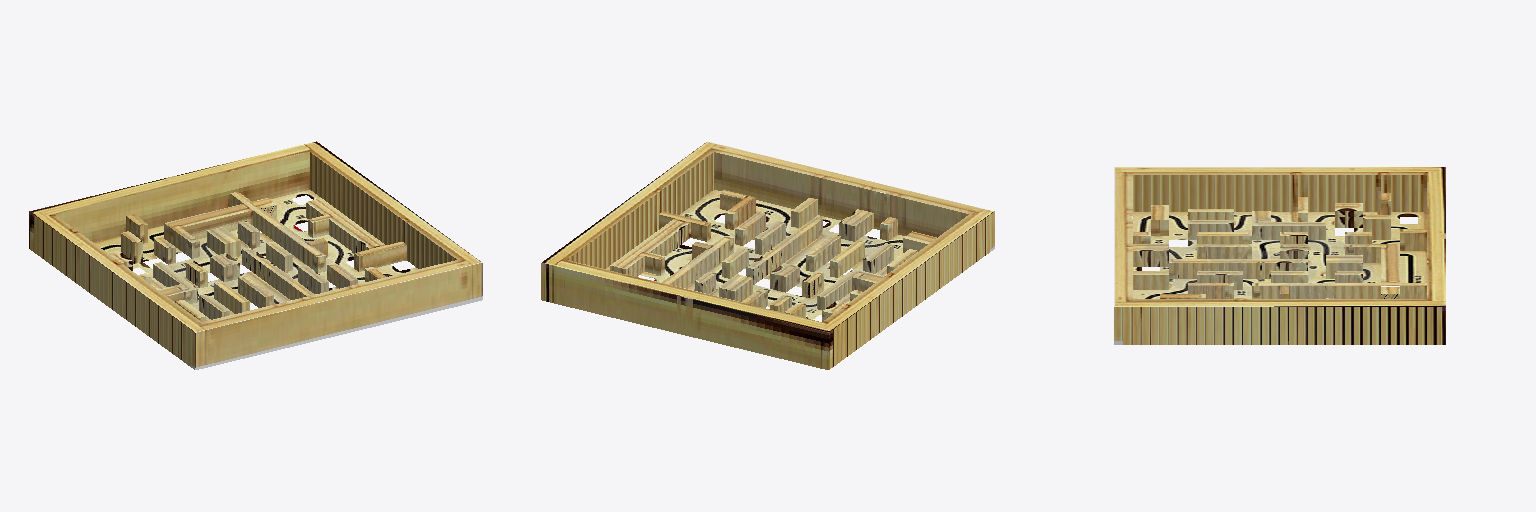
The picture shows the model from 3 angles: view 1: azimuth 30°, elevation 25°; view 2: azimuth 150°, elevation 25°; view 3: azimuth 270°, elevation 25°; orthographic projection.
Parts seen in each view (by area): view 1: Mesh_Mesh_Mesh_Mesh_Mesh_Mesh_Grid.001; view 2: Mesh_Mesh_Mesh_Mesh_Mesh_Mesh_Grid.001; view 3: Mesh_Mesh_Mesh_Mesh_Mesh_Mesh_Grid.001.
Part boxes in pixels (bbox=[...]): Mesh_Mesh_Mesh_Mesh_Mesh_Mesh_Grid.001: bbox=[29, 141, 482, 369]; Mesh_Mesh_Mesh_Mesh_Mesh_Mesh_Grid.001: bbox=[541, 141, 994, 369]; Mesh_Mesh_Mesh_Mesh_Mesh_Mesh_Grid.001: bbox=[1114, 167, 1445, 344].
Bounding box in the file's own units: 20 × 2.52 × 20.
Materials: 2 (1 with a texture image).